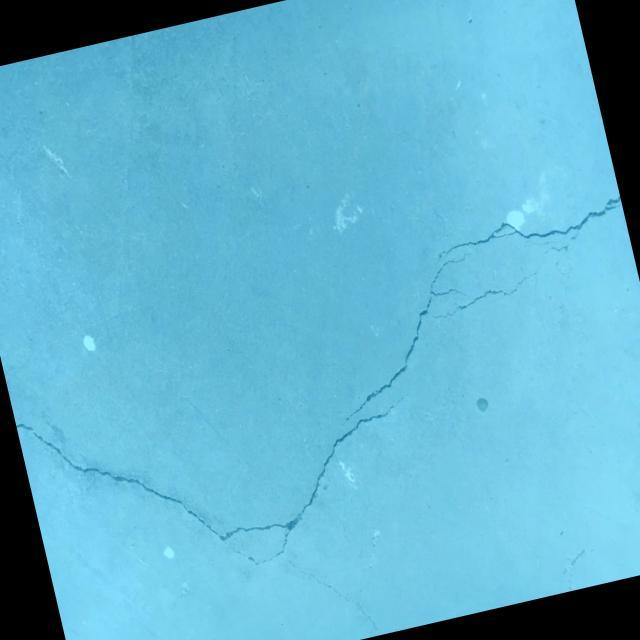crack: (16, 336, 438, 612), (309, 250, 502, 424), (430, 193, 629, 280), (288, 543, 377, 640), (426, 265, 548, 320), (420, 179, 448, 240)
